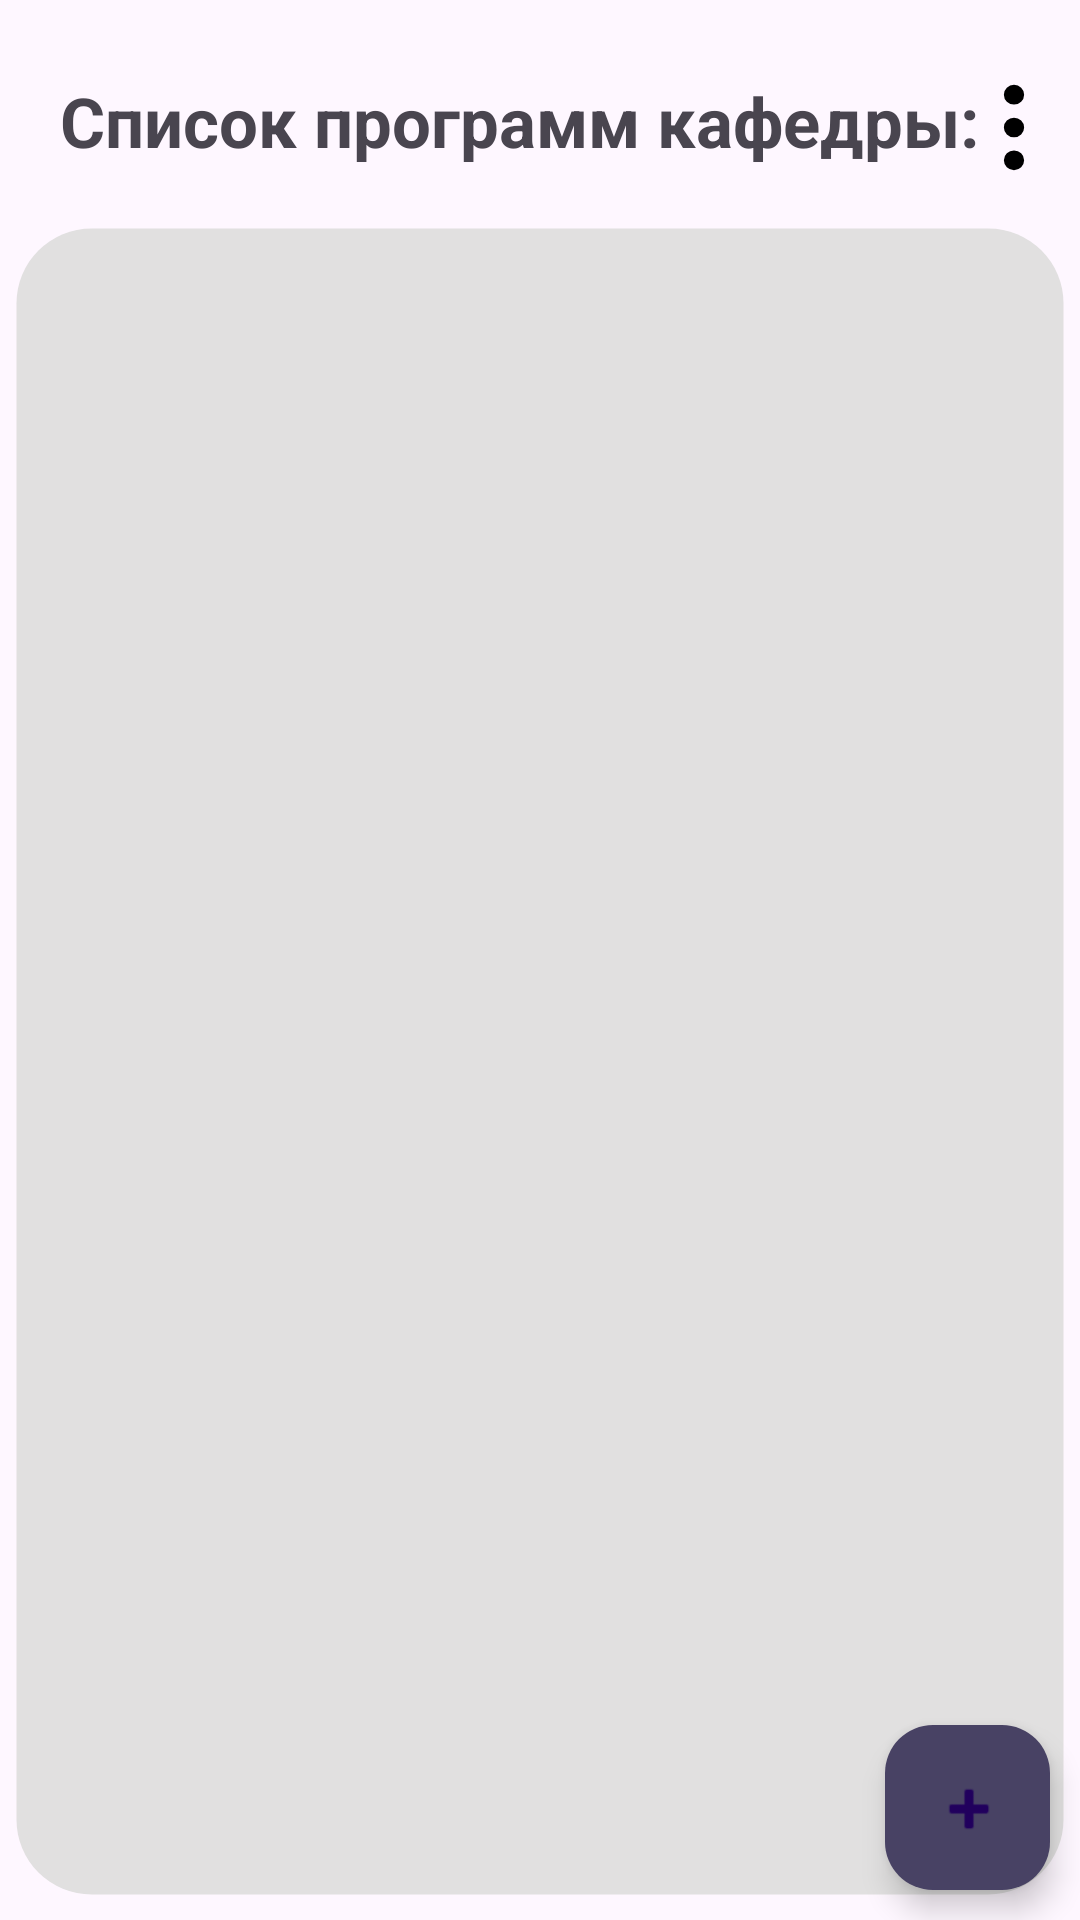

Icons on this 1080 x 1920 Android screen, each with the point to tap as (x,y):
add: (967,1807)
dots: (994,127)
